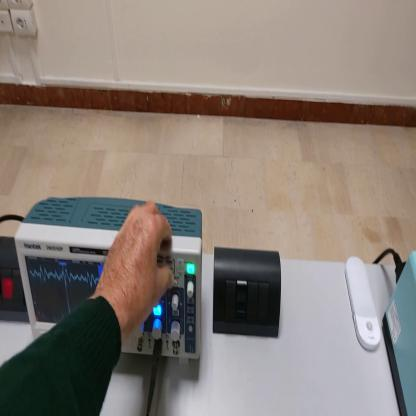hand: (100, 201, 175, 335)
oscilloscope: (17, 199, 204, 370)
socket: (2, 236, 30, 323)
welder station: (385, 249, 416, 415)
